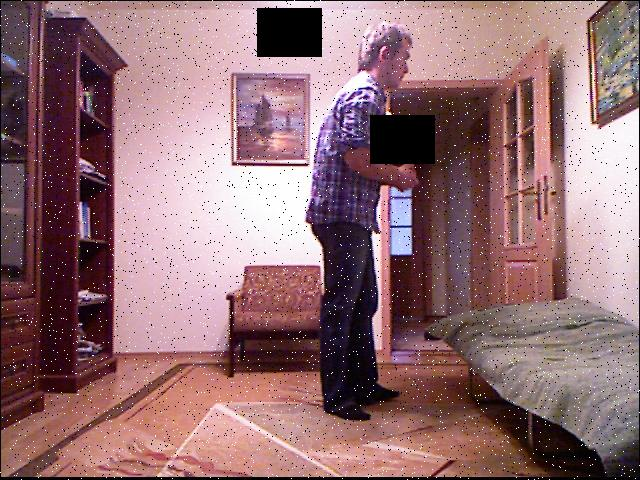standing: (302, 13, 434, 427)
